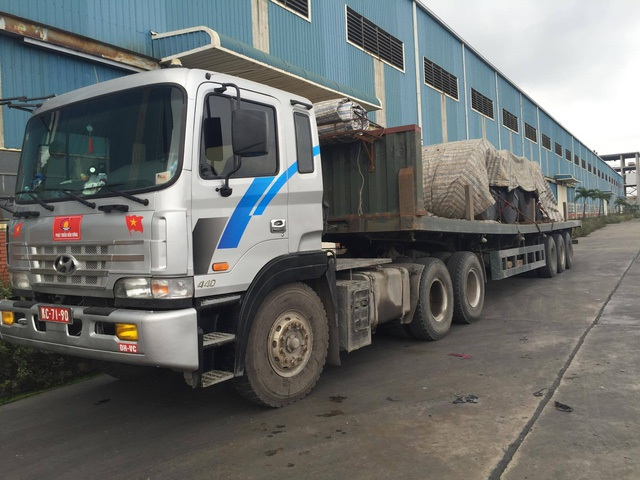plate: (38, 304, 72, 324)
